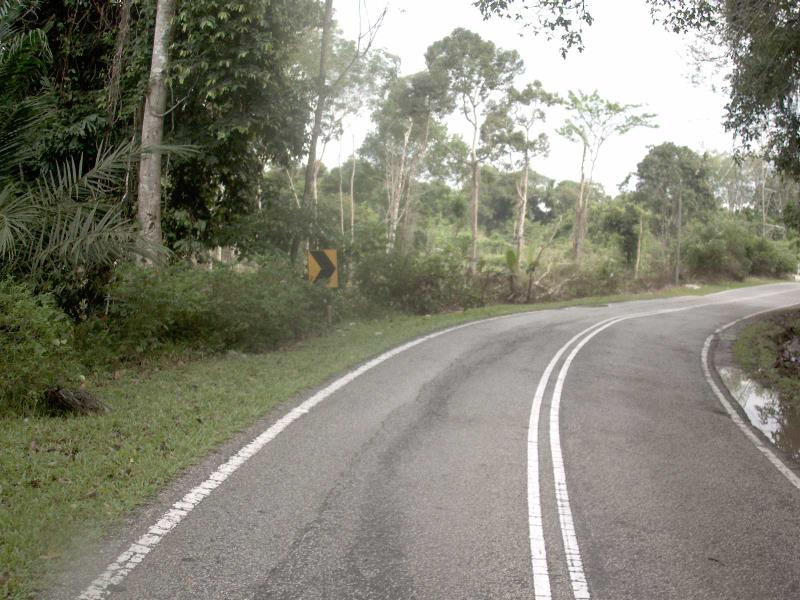traffic_sign: (300, 239, 348, 299)
